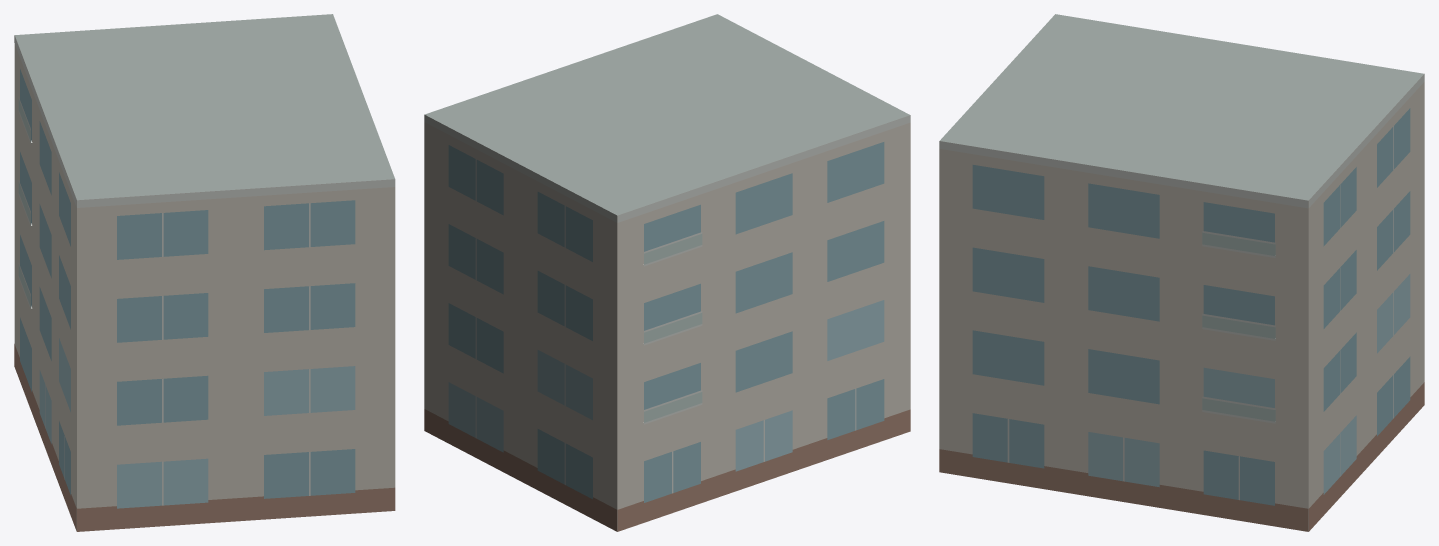
File: survey-upis-32678001.glb
The picture shows the model from 3 angles, left to right: view 1: azimuth 30°, elevation 25°; view 2: azimuth 150°, elevation 25°; view 3: azimuth 270°, elevation 25°; orthographic projection. The views are drawn at different scales.
Parts seen in each view (by area): view 1: survey-upis-32678001.tmp; view 2: survey-upis-32678001.tmp; view 3: survey-upis-32678001.tmp.
Boxes of the visible parts, bbox=[...] form: survey-upis-32678001.tmp: bbox=[14, 14, 395, 531]; survey-upis-32678001.tmp: bbox=[424, 14, 910, 531]; survey-upis-32678001.tmp: bbox=[939, 14, 1424, 531].
Size of the model in its own units: 12.58 by 10.4 by 13.81.
